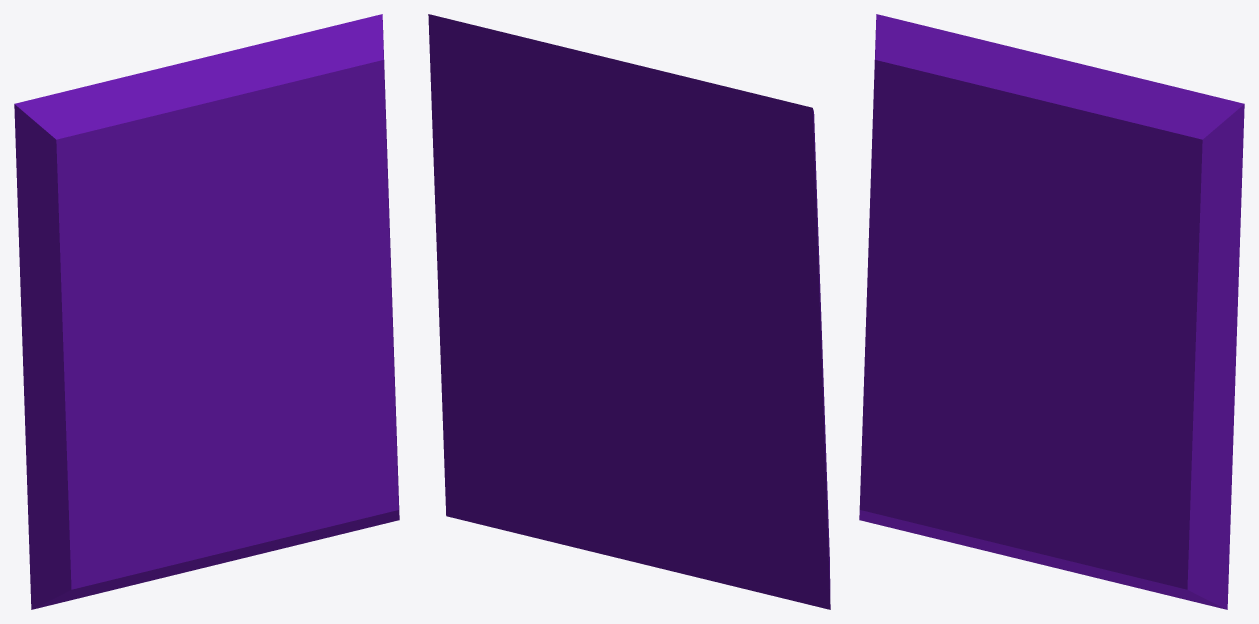
Rendered from SeatPouch_12.fbx.
The picture shows the model from 3 angles, left to right: view 1: azimuth 30°, elevation 25°; view 2: azimuth 150°, elevation 25°; view 3: azimuth 330°, elevation 25°; orthographic projection. The views are drawn at different scales.
Visible parts, largest first — view 1: SeatPouch_12; view 2: SeatPouch_12; view 3: SeatPouch_12.
Part boxes in pixels (x1=…): SeatPouch_12: x1=14, y1=14, x2=399, y2=609; SeatPouch_12: x1=428, y1=14, x2=830, y2=609; SeatPouch_12: x1=859, y1=14, x2=1244, y2=609.
Bounding box in the file's own units: 262 × 335 × 45.29.
